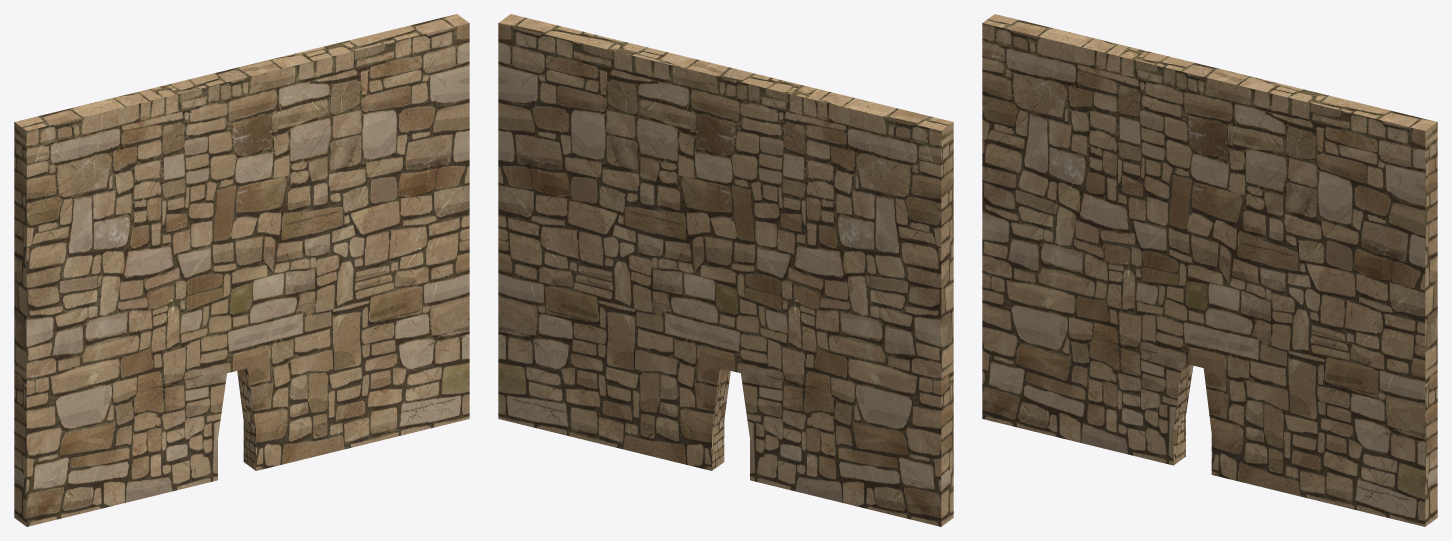
The model's file is mur_salle0.FBX.
3 views of the same model, side by side, from view 1: azimuth 30°, elevation 25°; view 2: azimuth 150°, elevation 25°; view 3: azimuth 330°, elevation 25° (orthographic).
Visible parts, largest first — view 1: mur_salle0; view 2: mur_salle0; view 3: mur_salle0.
Part boxes in pixels (x1,y1,x2,y2): mur_salle0: (14,14,469,526); mur_salle0: (498,14,953,526); mur_salle0: (982,14,1437,526).
Bounding box in the file's own units: 663 × 567 × 32.02.
Materials: 1 (1 with a texture image).
